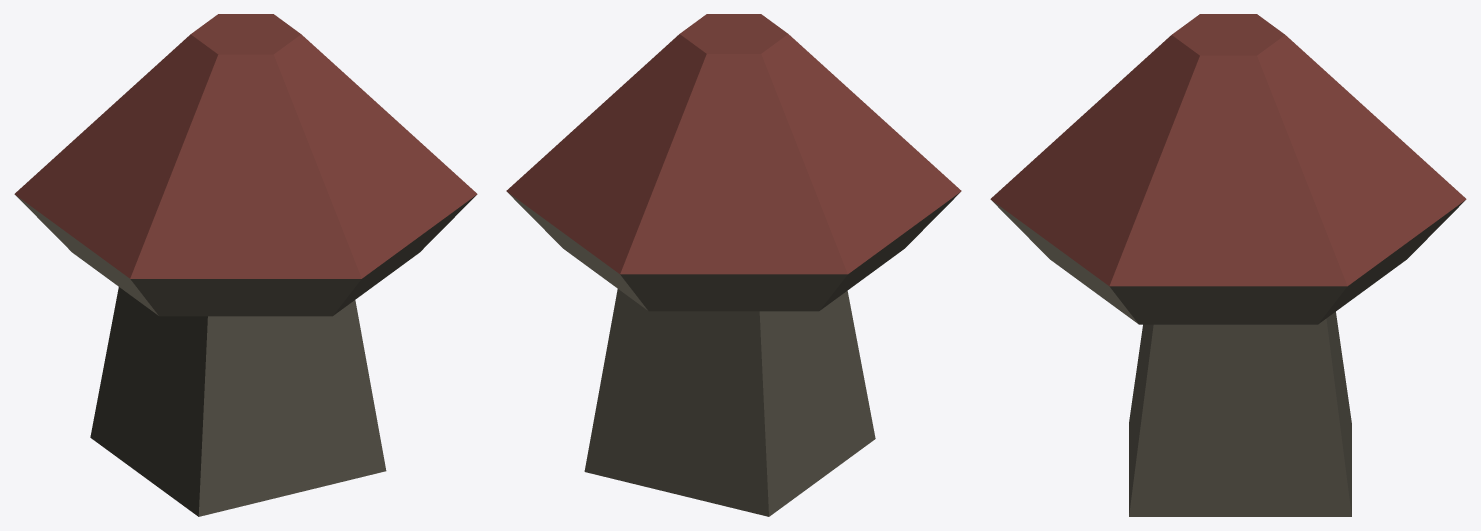
Rendered from pilz_rot.glb.
The picture shows the model from 3 angles, left to right: view 1: azimuth 30°, elevation 25°; view 2: azimuth 150°, elevation 25°; view 3: azimuth 270°, elevation 25°; orthographic projection. The views are drawn at different scales.
Parts seen in each view (by area): view 1: pilz_rot; view 2: pilz_rot; view 3: pilz_rot.
Part boxes in pixels (x1,y1,x2,y2): pilz_rot: (14,14,477,516); pilz_rot: (506,14,961,516); pilz_rot: (990,14,1466,516).
Bounding box in the file's own units: 0.1373 × 0.16 × 0.1585.
